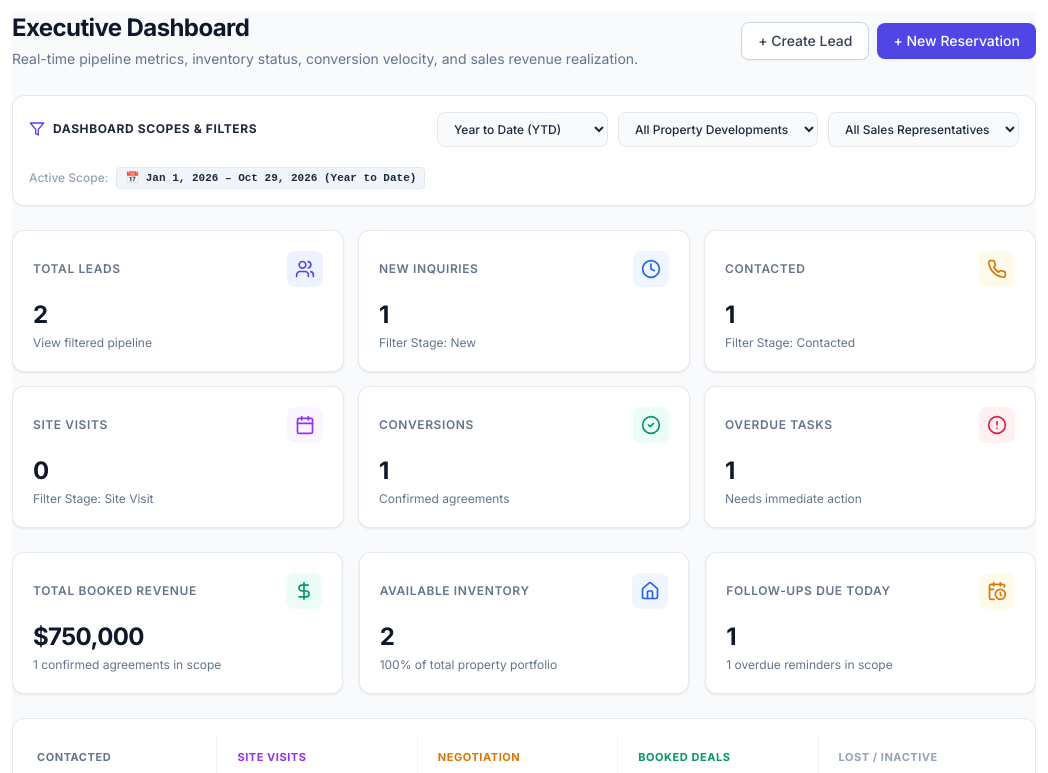
it: DashboardPage Component & Filter Integration › updates dashboard metrics when selecting a project filter
Check: the text "Total Leads" is shown, box [33, 261, 121, 277]
Select "Skyline Towers" in the dropdown named "Filter by property development" at (718, 129), box [618, 112, 818, 147]
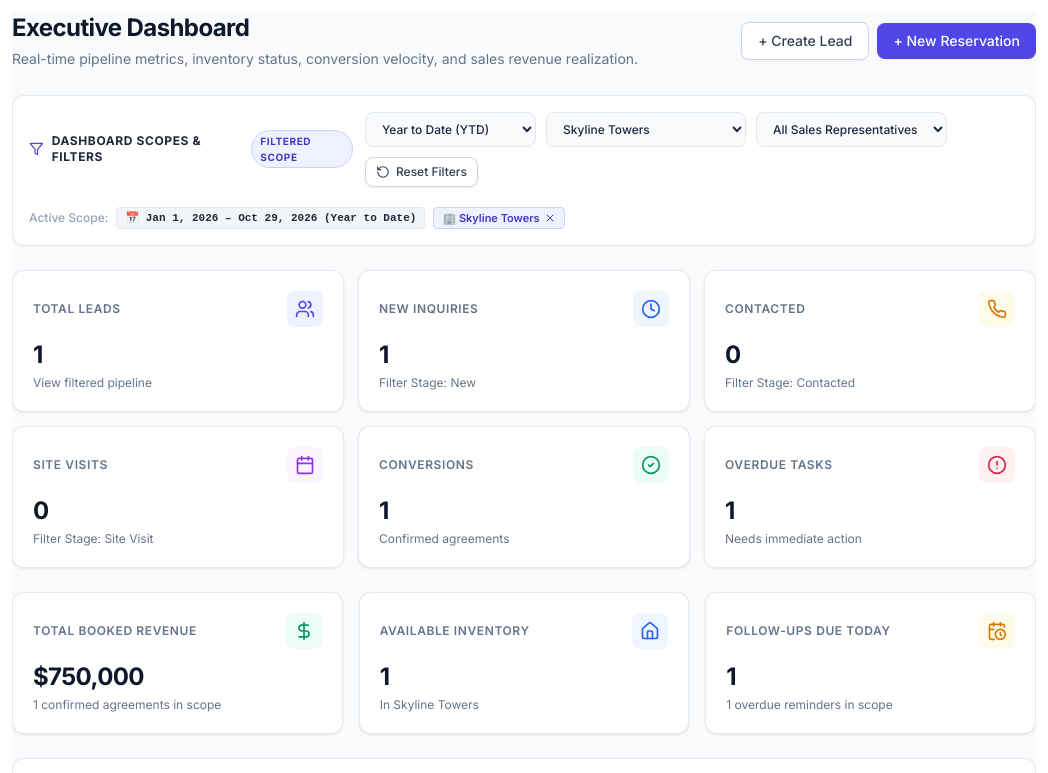
Check: the text "🏢 Skyline Towers" is shown, box [433, 207, 565, 229]
